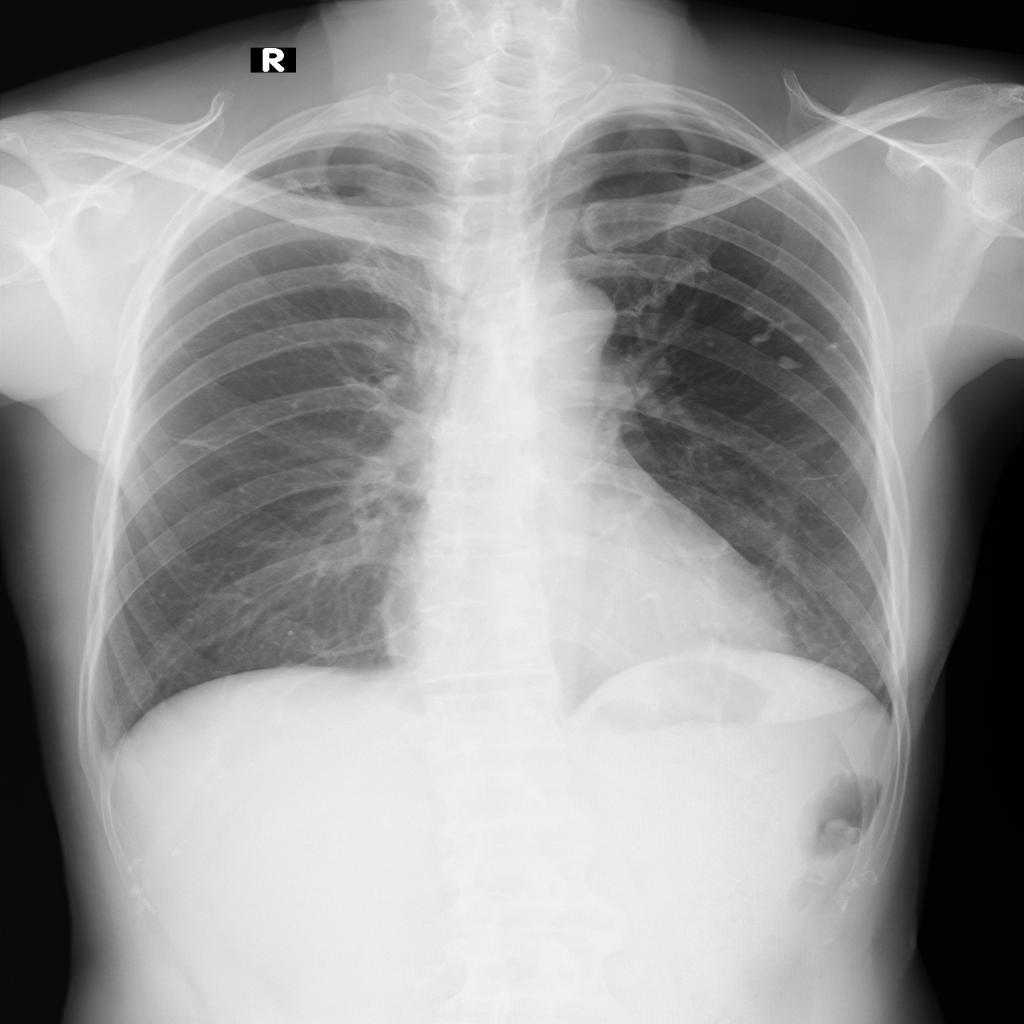Nodule: (281, 179, 309, 192)
